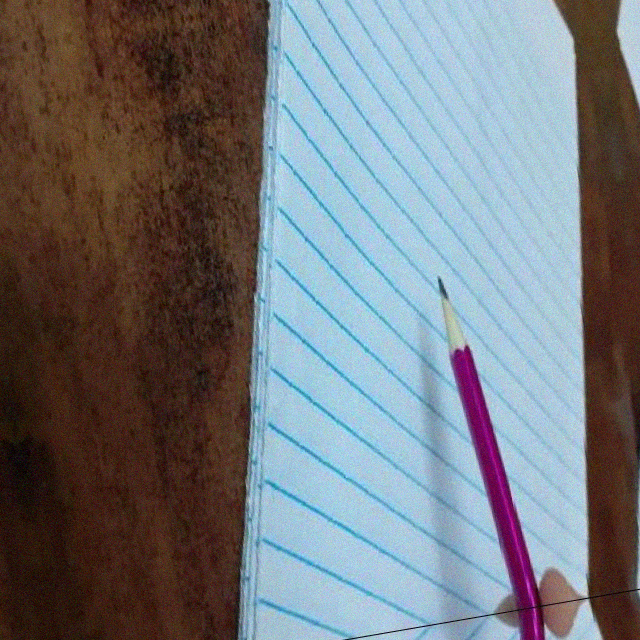pencil: (429, 270, 475, 353)
